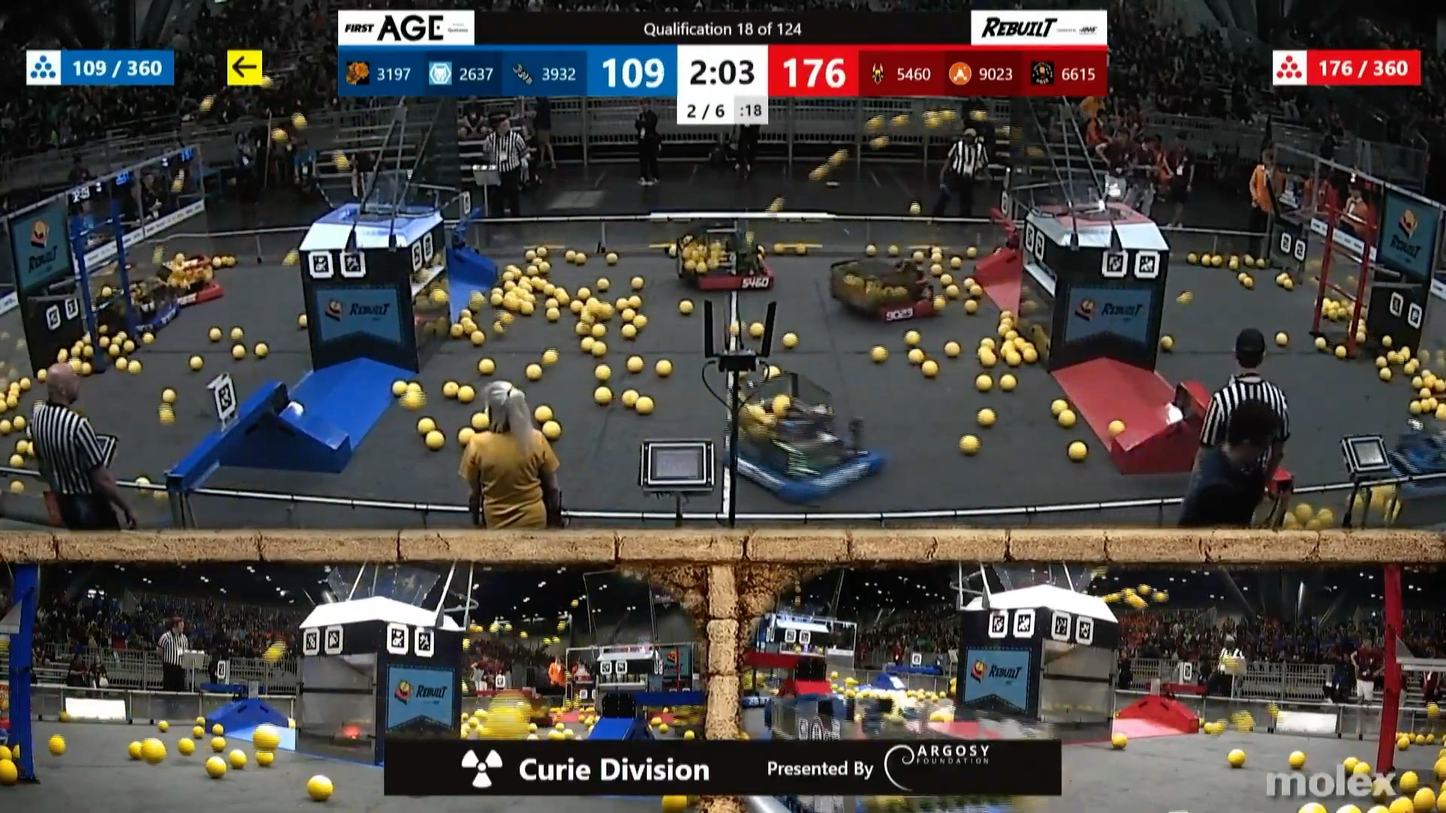bumpers: (727, 439, 892, 508), (103, 299, 193, 336), (689, 261, 781, 294), (156, 276, 236, 309), (850, 294, 934, 325)
